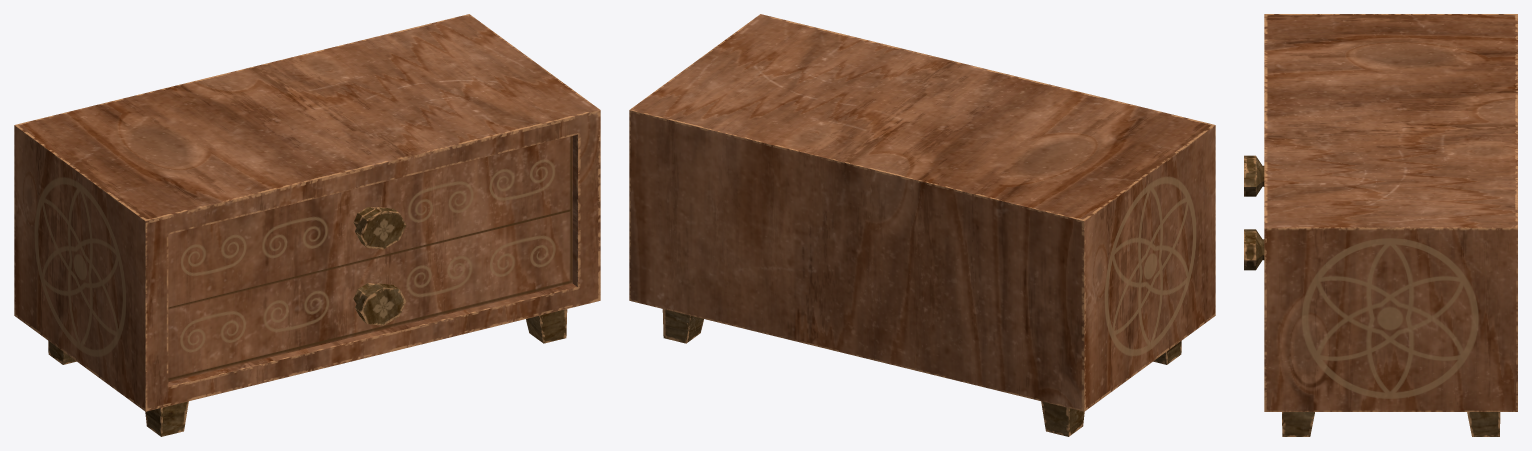
File: commode.glb
The picture shows the model from 3 angles, left to right: view 1: azimuth 30°, elevation 25°; view 2: azimuth 150°, elevation 25°; view 3: azimuth 270°, elevation 25°; orthographic projection. The views are drawn at different scales.
Visible parts, largest first — view 1: commode; view 2: commode; view 3: commode.
Part boxes in pixels (box(x1,y1,x2,y2)): commode: box(14, 14, 600, 436); commode: box(629, 14, 1215, 436); commode: box(1244, 14, 1517, 436).
Size of the model in its own units: 1 by 0.48 by 0.54.
1 material, 1 textured.
